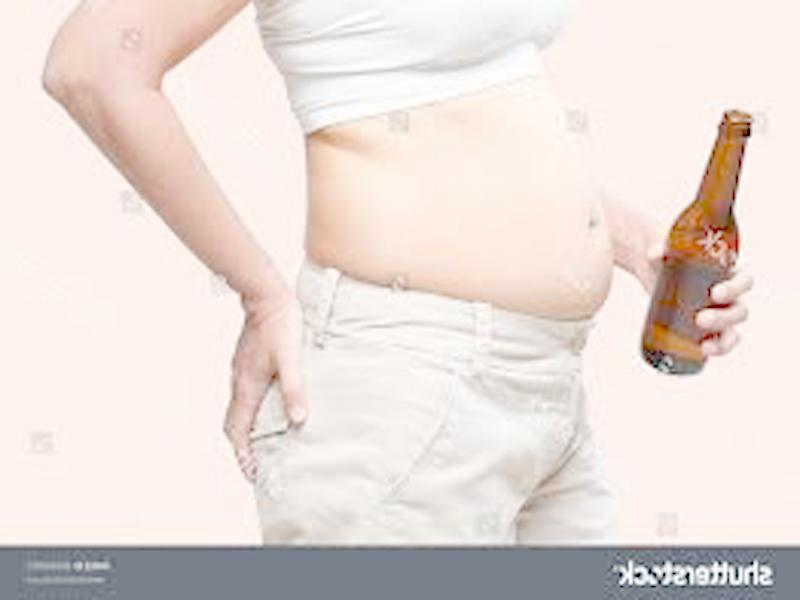Beer: (634, 112, 753, 378)
